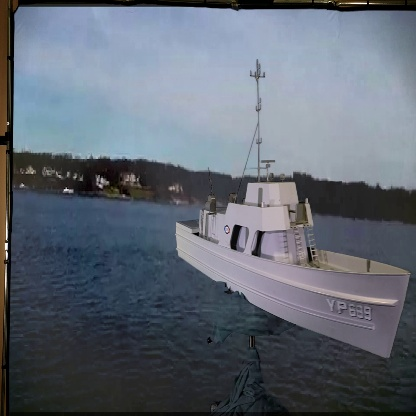YP689: (174, 58, 411, 363)
